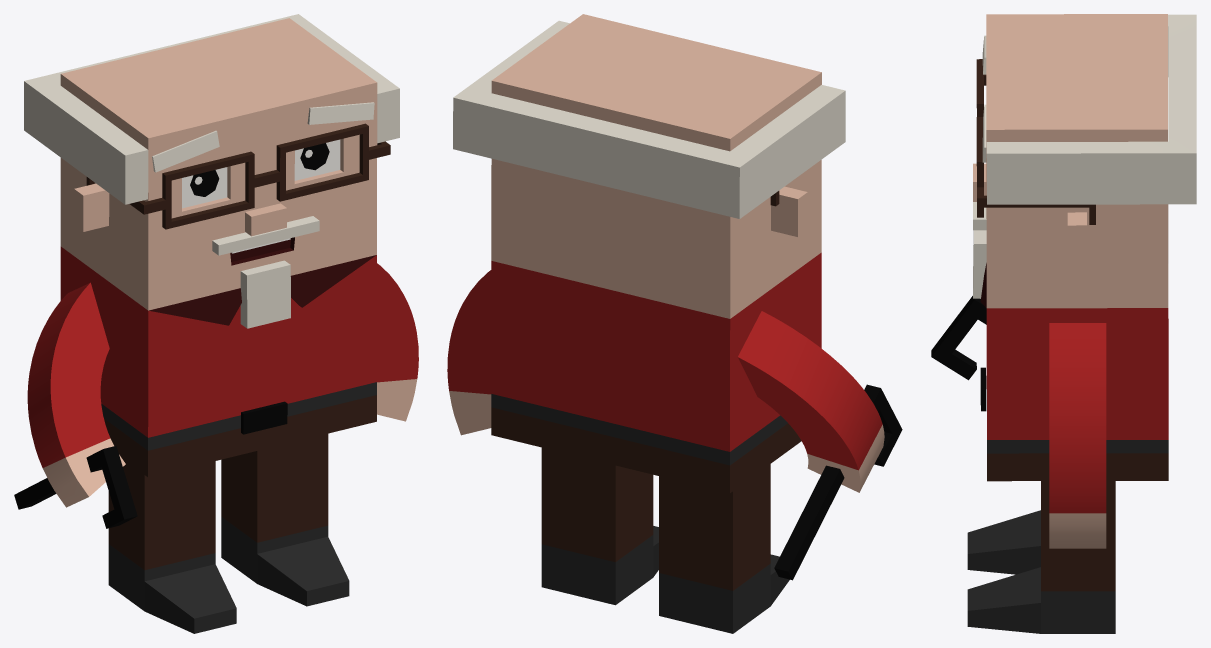
The model's file is senior.fbx.
3 views of the same model, side by side, from view 1: azimuth 30°, elevation 25°; view 2: azimuth 150°, elevation 25°; view 3: azimuth 270°, elevation 25° (orthographic). The views are drawn at different scales.
Visible parts, largest first — view 1: senior; view 2: senior; view 3: senior.
Part boxes in pixels (x1=…): senior: x1=14, y1=14, x2=418, y2=633; senior: x1=447, y1=14, x2=902, y2=633; senior: x1=931, y1=14, x2=1196, y2=633.
Size of the model in its own units: 202 by 257 by 120.
